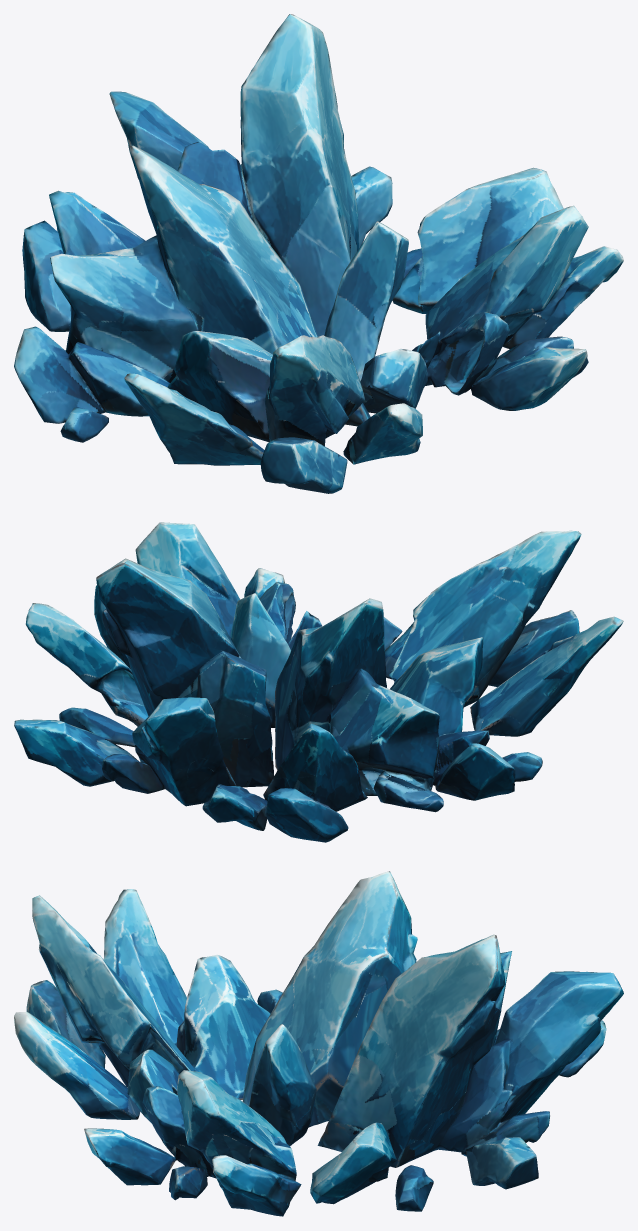
Rendered from IceShard_Small_A.fbx.
3 views of the same model, one above another, from view 1: azimuth 30°, elevation 25°; view 2: azimuth 150°, elevation 25°; view 3: azimuth 270°, elevation 25° (orthographic). The views are drawn at different scales.
Parts seen in each view (by area): view 1: texture_mapping; view 2: texture_mapping; view 3: texture_mapping.
Boxes of the visible parts, x1,y1,x2,y2 form: texture_mapping: [14, 14, 623, 493]; texture_mapping: [14, 522, 623, 842]; texture_mapping: [14, 871, 623, 1216].
Size of the model in its own units: 0.9399 by 0.9967 by 0.4118.
1 material, 1 textured.
